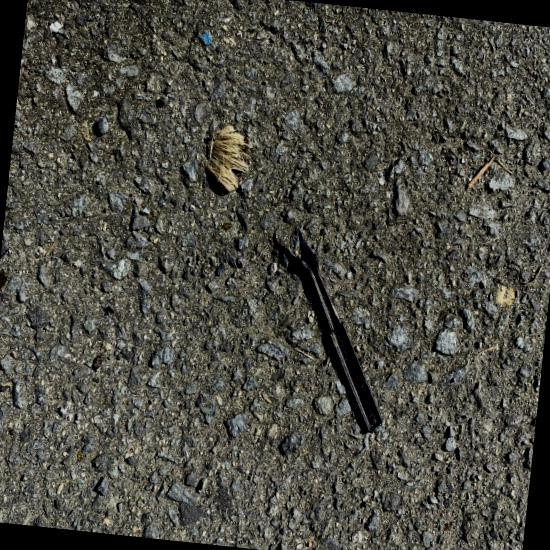Broken glass: (93, 355, 102, 368), (0, 272, 7, 288), (444, 524, 450, 531), (78, 454, 82, 461)
Other plastic bottle: (49, 22, 62, 33), (200, 33, 211, 45)
Plastic utensils: (298, 228, 382, 433)
